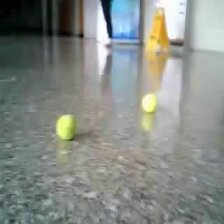tennis: (56, 114, 78, 140), (141, 94, 156, 112)
